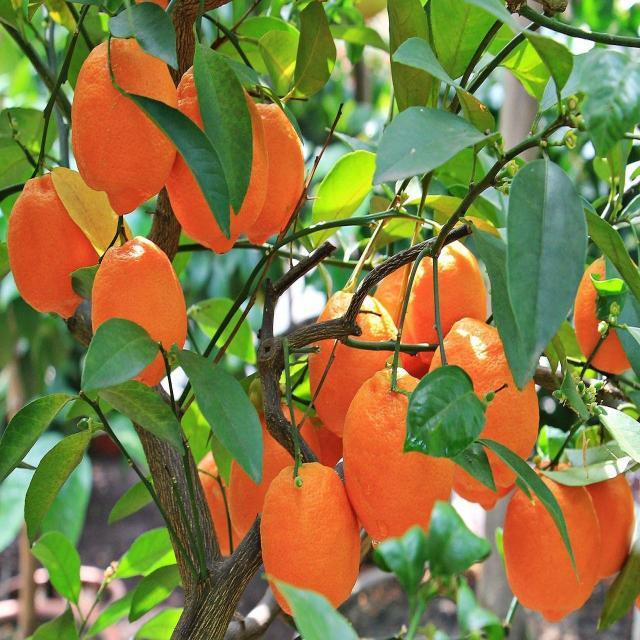Jeruk Sudah Matang: (342, 371, 456, 544), (70, 39, 180, 218), (500, 464, 606, 628), (260, 465, 361, 608), (6, 176, 100, 320), (90, 238, 187, 349)
